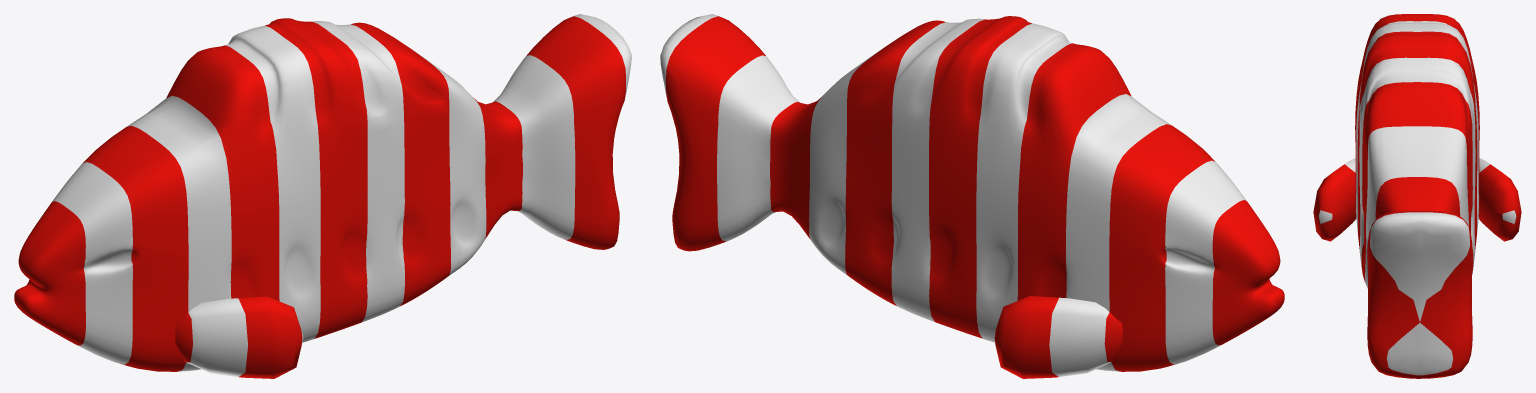
File: kirmiziBalik.fbx
3 views of the same model, side by side, from view 1: azimuth 30°, elevation 25°; view 2: azimuth 150°, elevation 25°; view 3: azimuth 270°, elevation 25° (orthographic). The views are drawn at different scales.
Visible parts, largest first — view 1: Cube.002; view 2: Cube.002; view 3: Cube.002.
Boxes of the visible parts, x1,y1,x2,y2 form: Cube.002: [14, 14, 631, 378]; Cube.002: [660, 14, 1284, 378]; Cube.002: [1313, 14, 1521, 378].
Size of the model in its own units: 117 by 55.04 by 43.19.
